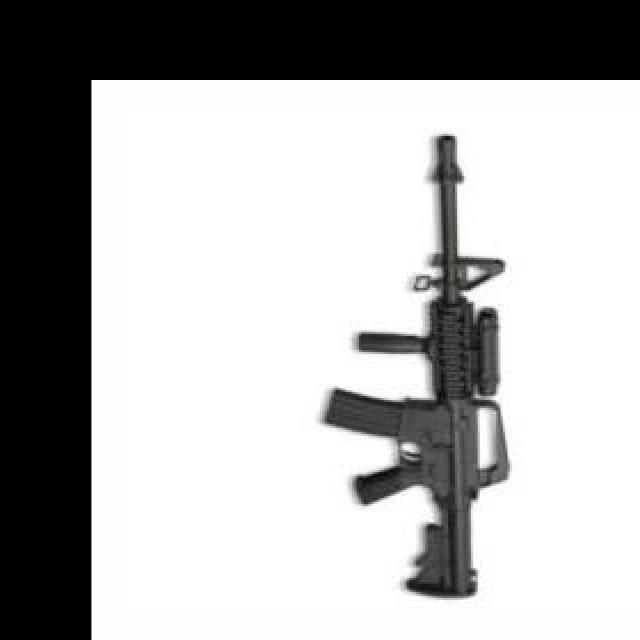weapon: (319, 134, 511, 602)
